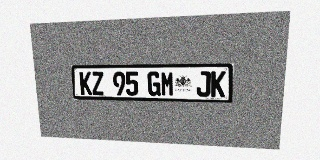5: (125, 71, 139, 96)
9: (113, 72, 126, 96)
G: (147, 71, 161, 96)
J: (196, 71, 211, 97)
K: (211, 71, 226, 97), (79, 72, 92, 95)
M: (161, 71, 174, 96)
Z: (91, 72, 104, 95)
